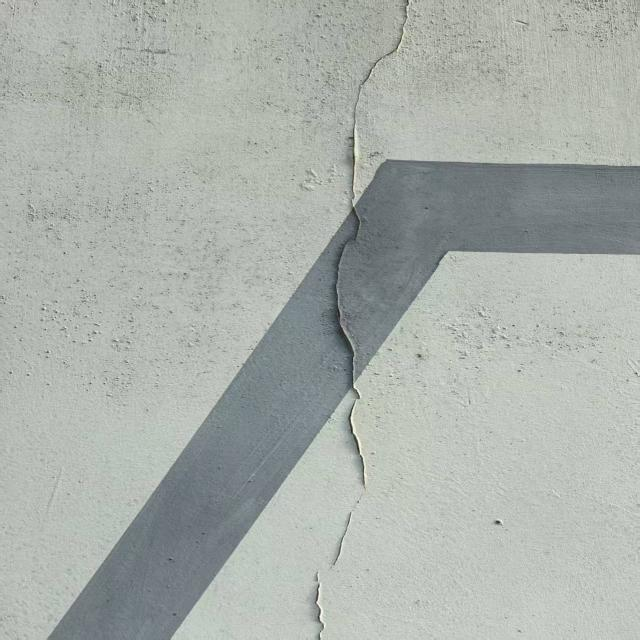crack: (298, 5, 432, 634)
